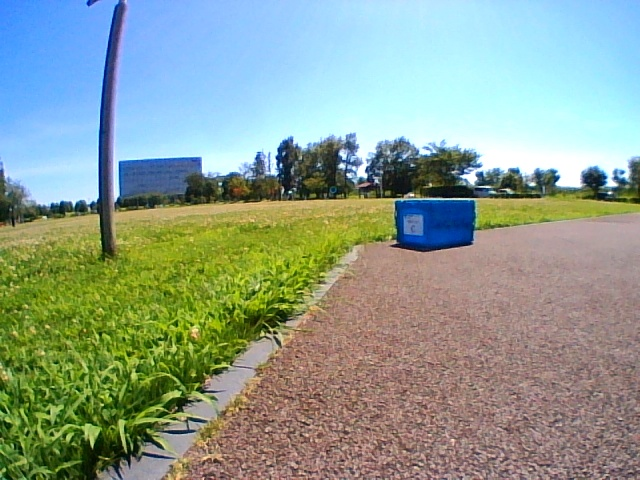blue_box: (395, 200, 474, 244)
tag_c: (405, 215, 422, 234)
